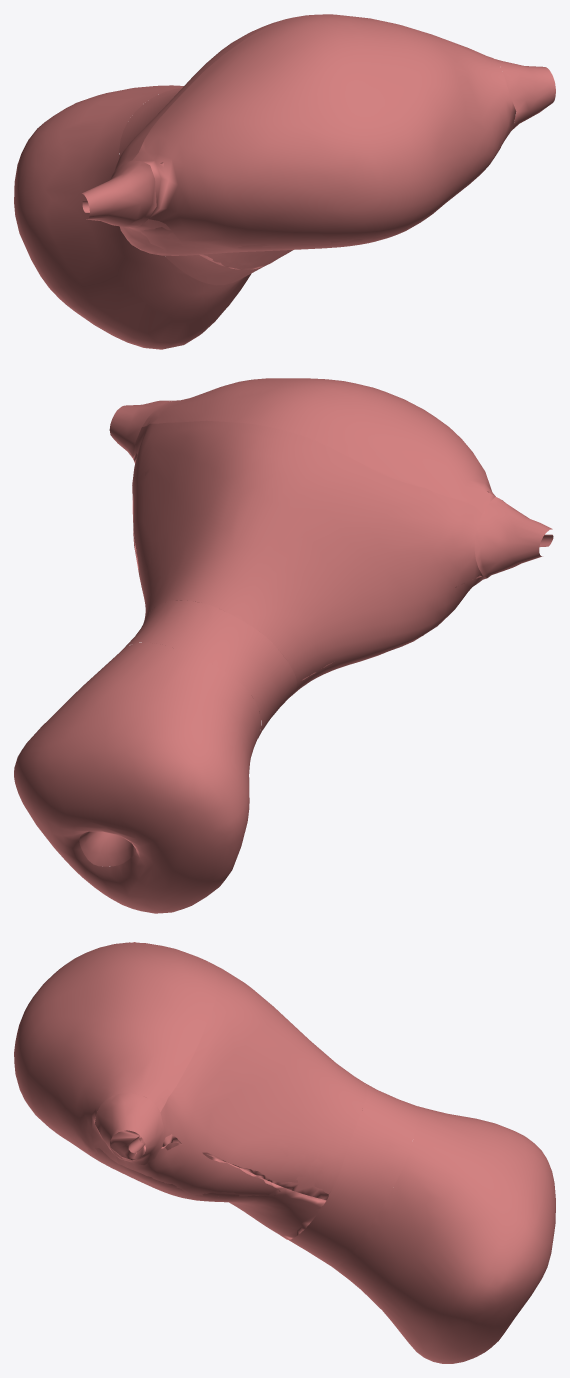
Rendered from vh_f_uterus-40.glb.
The picture shows the model from 3 angles, top to bottom: view 1: azimuth 30°, elevation 25°; view 2: azimuth 150°, elevation 25°; view 3: azimuth 270°, elevation 25°; orthographic projection. The views are drawn at different scales.
Visible parts, largest first — view 1: VH_F_fundus_of_uterus, VH_F_cervix, VH_F_cornua, VH_F_posterior_wall_of_uterus, VH_F_lower_uterine_segment, VH_F_body_of_uterus; view 2: VH_F_body_of_uterus, VH_F_cervix, VH_F_fundus_of_uterus, VH_F_lower_uterine_segment, VH_F_cornua, VH_F_external_cervical_os; view 3: VH_F_cervix, VH_F_body_of_uterus, VH_F_fundus_of_uterus, VH_F_lower_uterine_segment, VH_F_posterior_wall_of_uterus, VH_F_cornua, VH_F_anterior_wall_of_uterus.
Boxes of the visible parts, left/top/right/bottom form: VH_F_fundus_of_uterus: left=132, top=14, right=516, bottom=249; VH_F_cervix: left=14, top=85, right=251, bottom=349; VH_F_cornua: left=82, top=59, right=555, bottom=227; VH_F_posterior_wall_of_uterus: left=130, top=146, right=501, bottom=269; VH_F_lower_uterine_segment: left=119, top=87, right=264, bottom=285; VH_F_body_of_uterus: left=114, top=18, right=511, bottom=268; VH_F_body_of_uterus: left=132, top=420, right=486, bottom=695; VH_F_cervix: left=14, top=642, right=260, bottom=913; VH_F_fundus_of_uterus: left=142, top=378, right=495, bottom=513; VH_F_lower_uterine_segment: left=124, top=600, right=297, bottom=738; VH_F_cornua: left=109, top=400, right=552, bottom=577; VH_F_external_cervical_os: left=79, top=831, right=136, bottom=866; VH_F_cervix: left=333, top=1106, right=555, bottom=1363; VH_F_body_of_uterus: left=112, top=962, right=366, bottom=1212; VH_F_fundus_of_uterus: left=14, top=942, right=217, bottom=1163; VH_F_lower_uterine_segment: left=289, top=1083, right=419, bottom=1267; VH_F_posterior_wall_of_uterus: left=42, top=1118, right=326, bottom=1239; VH_F_cornua: left=95, top=942, right=163, bottom=1164; VH_F_anterior_wall_of_uterus: left=151, top=1100, right=328, bottom=1200.
Bounding box in the file's own units: 0.0525 × 0.047 × 0.0587.
